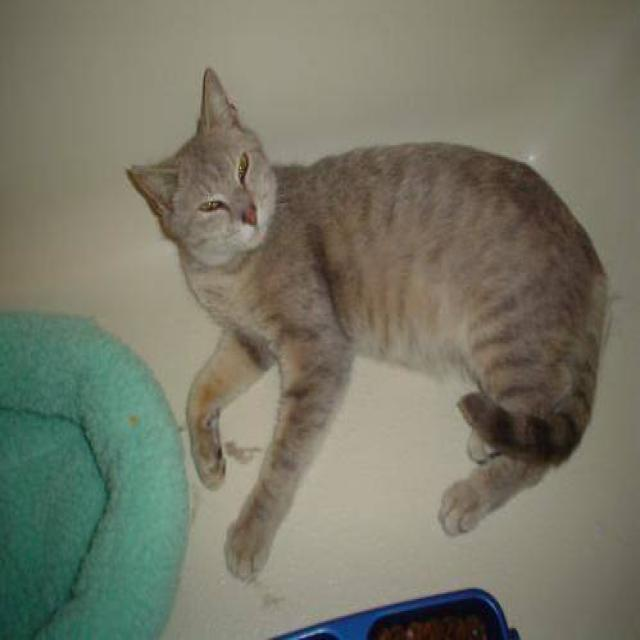cat: (124, 65, 618, 582)
